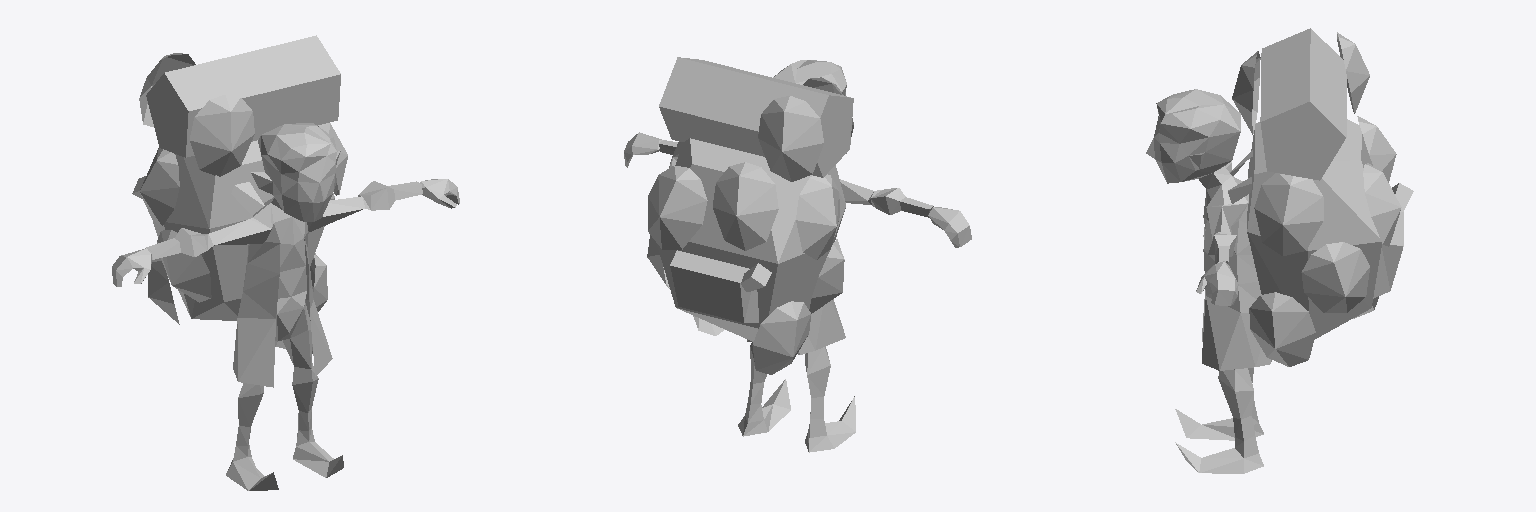
File: Salesman.obj
3 views of the same model, side by side, from view 1: azimuth 30°, elevation 25°; view 2: azimuth 150°, elevation 25°; view 3: azimuth 270°, elevation 25° (orthographic).
Parts seen in each view (by area): view 1: Regroup03, Regroup10; view 2: Regroup03, Regroup10; view 3: Regroup03, Regroup10.
Part boxes in pixels (left/top/right/bottom): Regroup03: left=132, top=35, right=347, bottom=324; Regroup10: left=112, top=123, right=459, bottom=490; Regroup03: left=647, top=57, right=853, bottom=374; Regroup10: left=624, top=60, right=971, bottom=452; Regroup03: left=1228, top=28, right=1413, bottom=366; Regroup10: left=1146, top=89, right=1271, bottom=473.
Bounding box in the file's own units: 92.4 × 99.98 × 62.55.